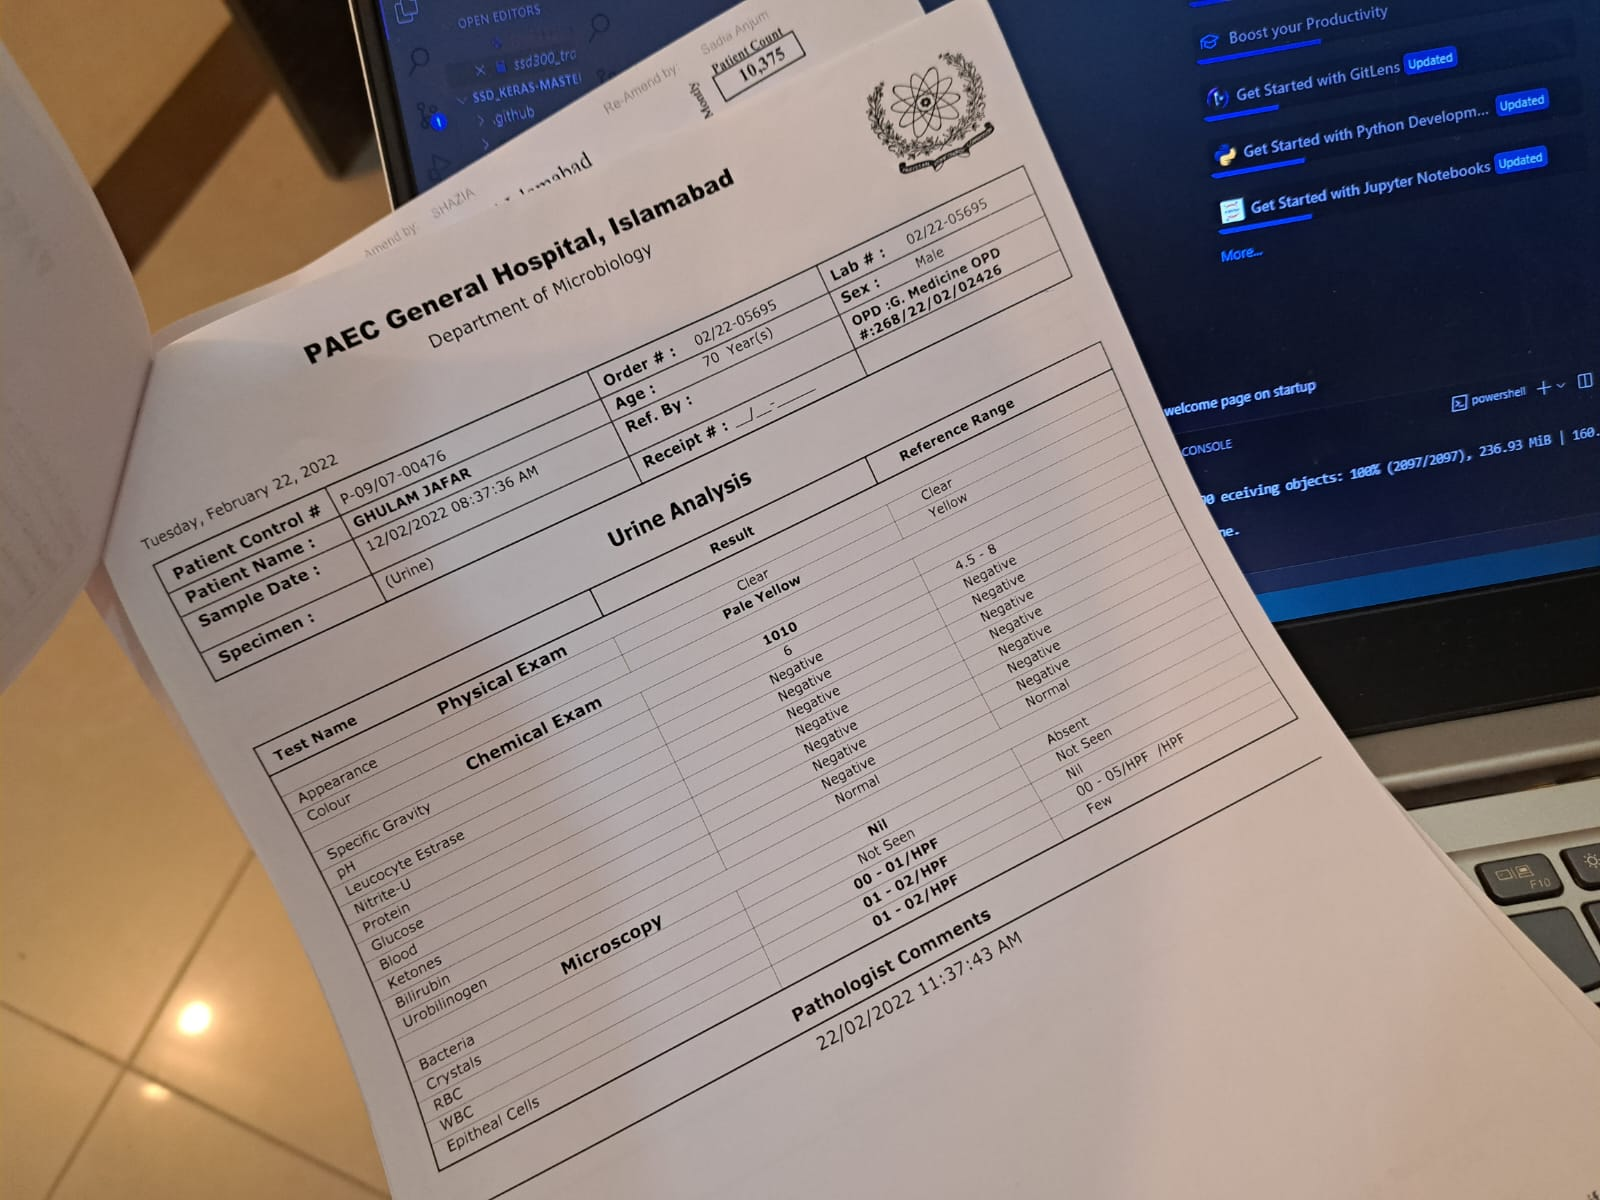report: (249, 343, 1305, 1168)
